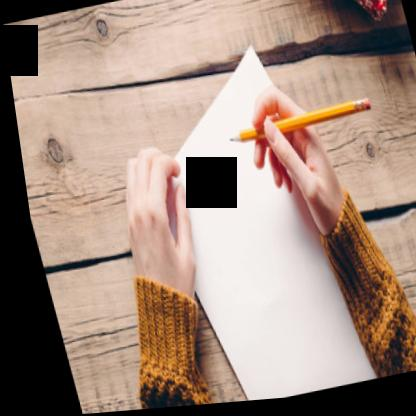pencil: (215, 95, 382, 154)
